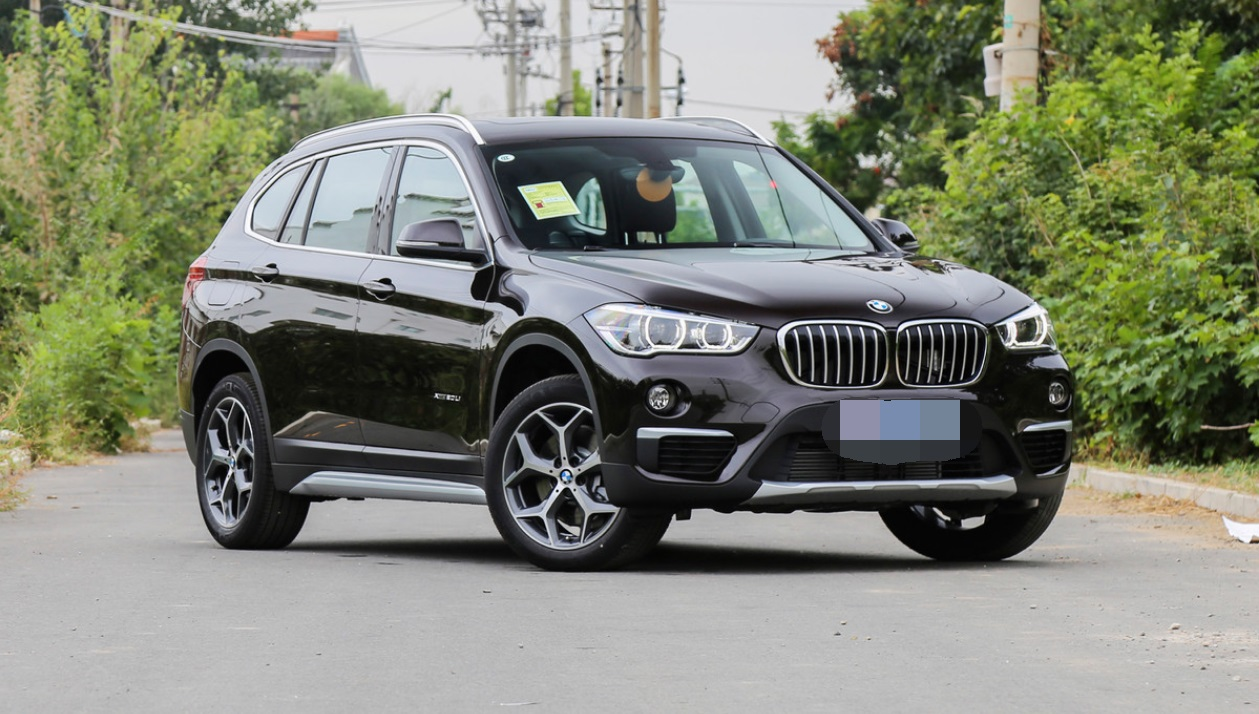SUV: (176, 111, 1077, 574)
